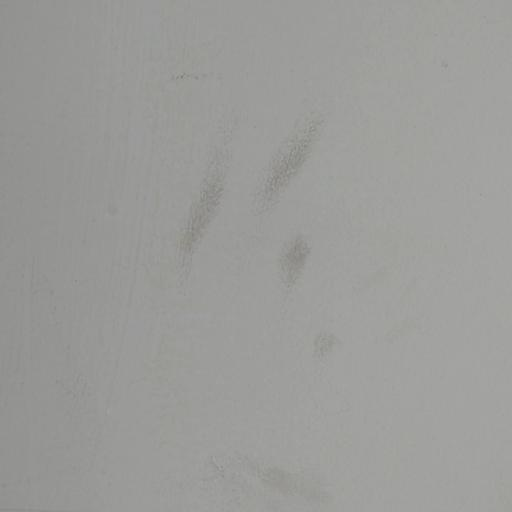stain: (235, 82, 331, 239), (194, 432, 368, 512), (164, 126, 244, 284), (248, 224, 332, 310), (150, 39, 224, 104), (296, 326, 355, 374)
